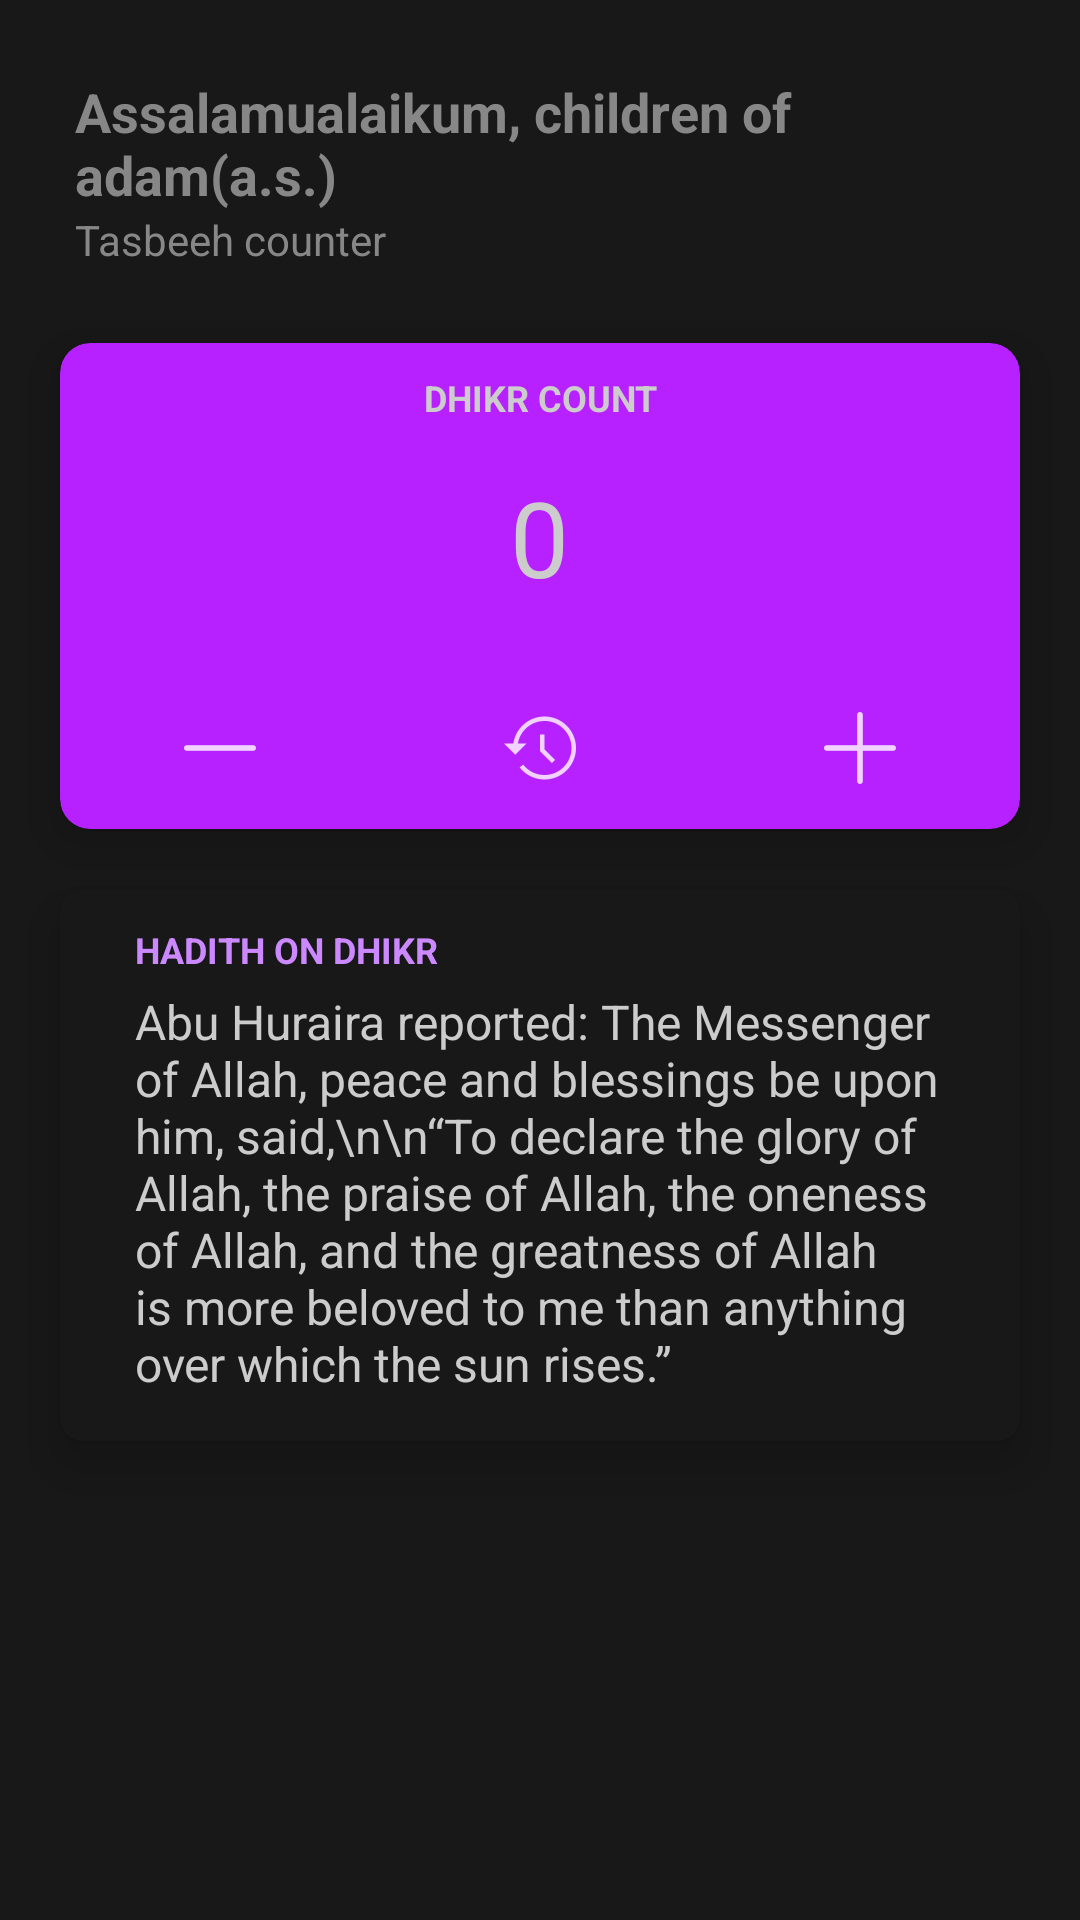

Screen size 1080×1920. Icon name, then its center in pixels as (x,y):
add: (860,748)
reset: (540,748)
